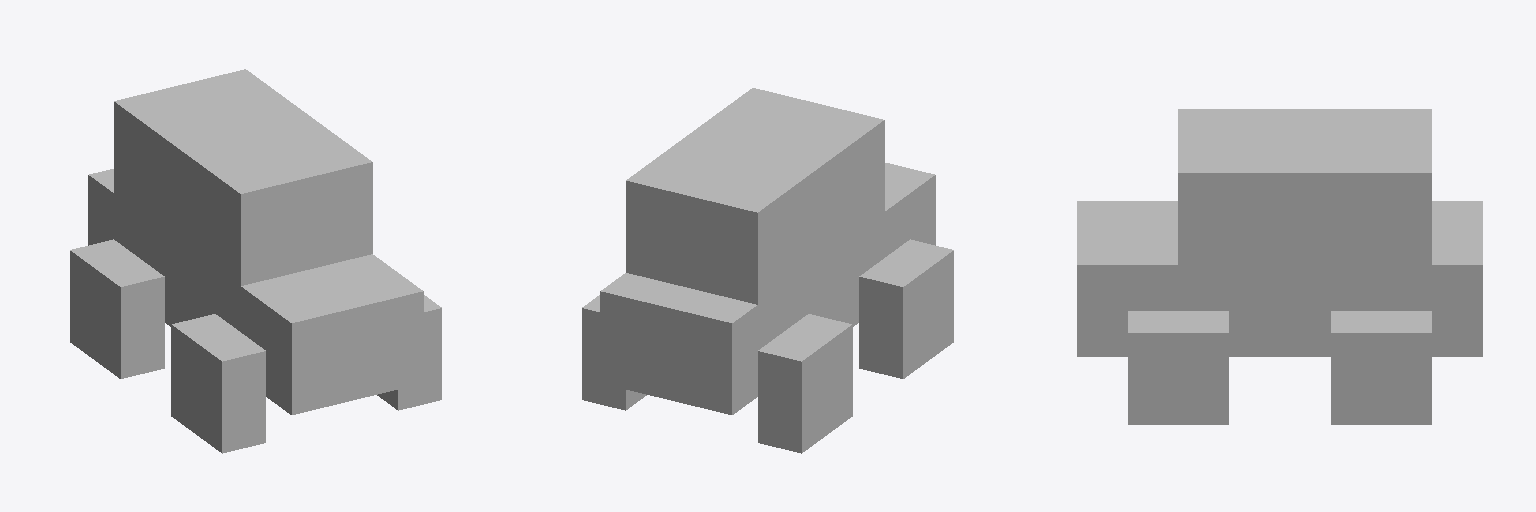
Rendered from obj_toy_car.obj.
The picture shows the model from 3 angles: view 1: azimuth 30°, elevation 25°; view 2: azimuth 150°, elevation 25°; view 3: azimuth 270°, elevation 25°; orthographic projection.
Parts seen in each view (by area): view 1: obj_toy_car; view 2: obj_toy_car; view 3: obj_toy_car.
Part boxes in pixels (x1,y1,x2,y2): obj_toy_car: (70,69,441,453); obj_toy_car: (582,88,953,453); obj_toy_car: (1077,109,1482,424).
Size of the model in its own units: 5 by 5 by 8.